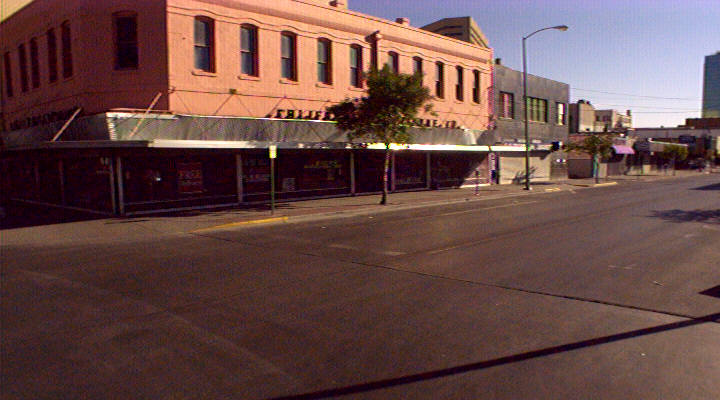Ramp: (1, 217, 226, 252)
